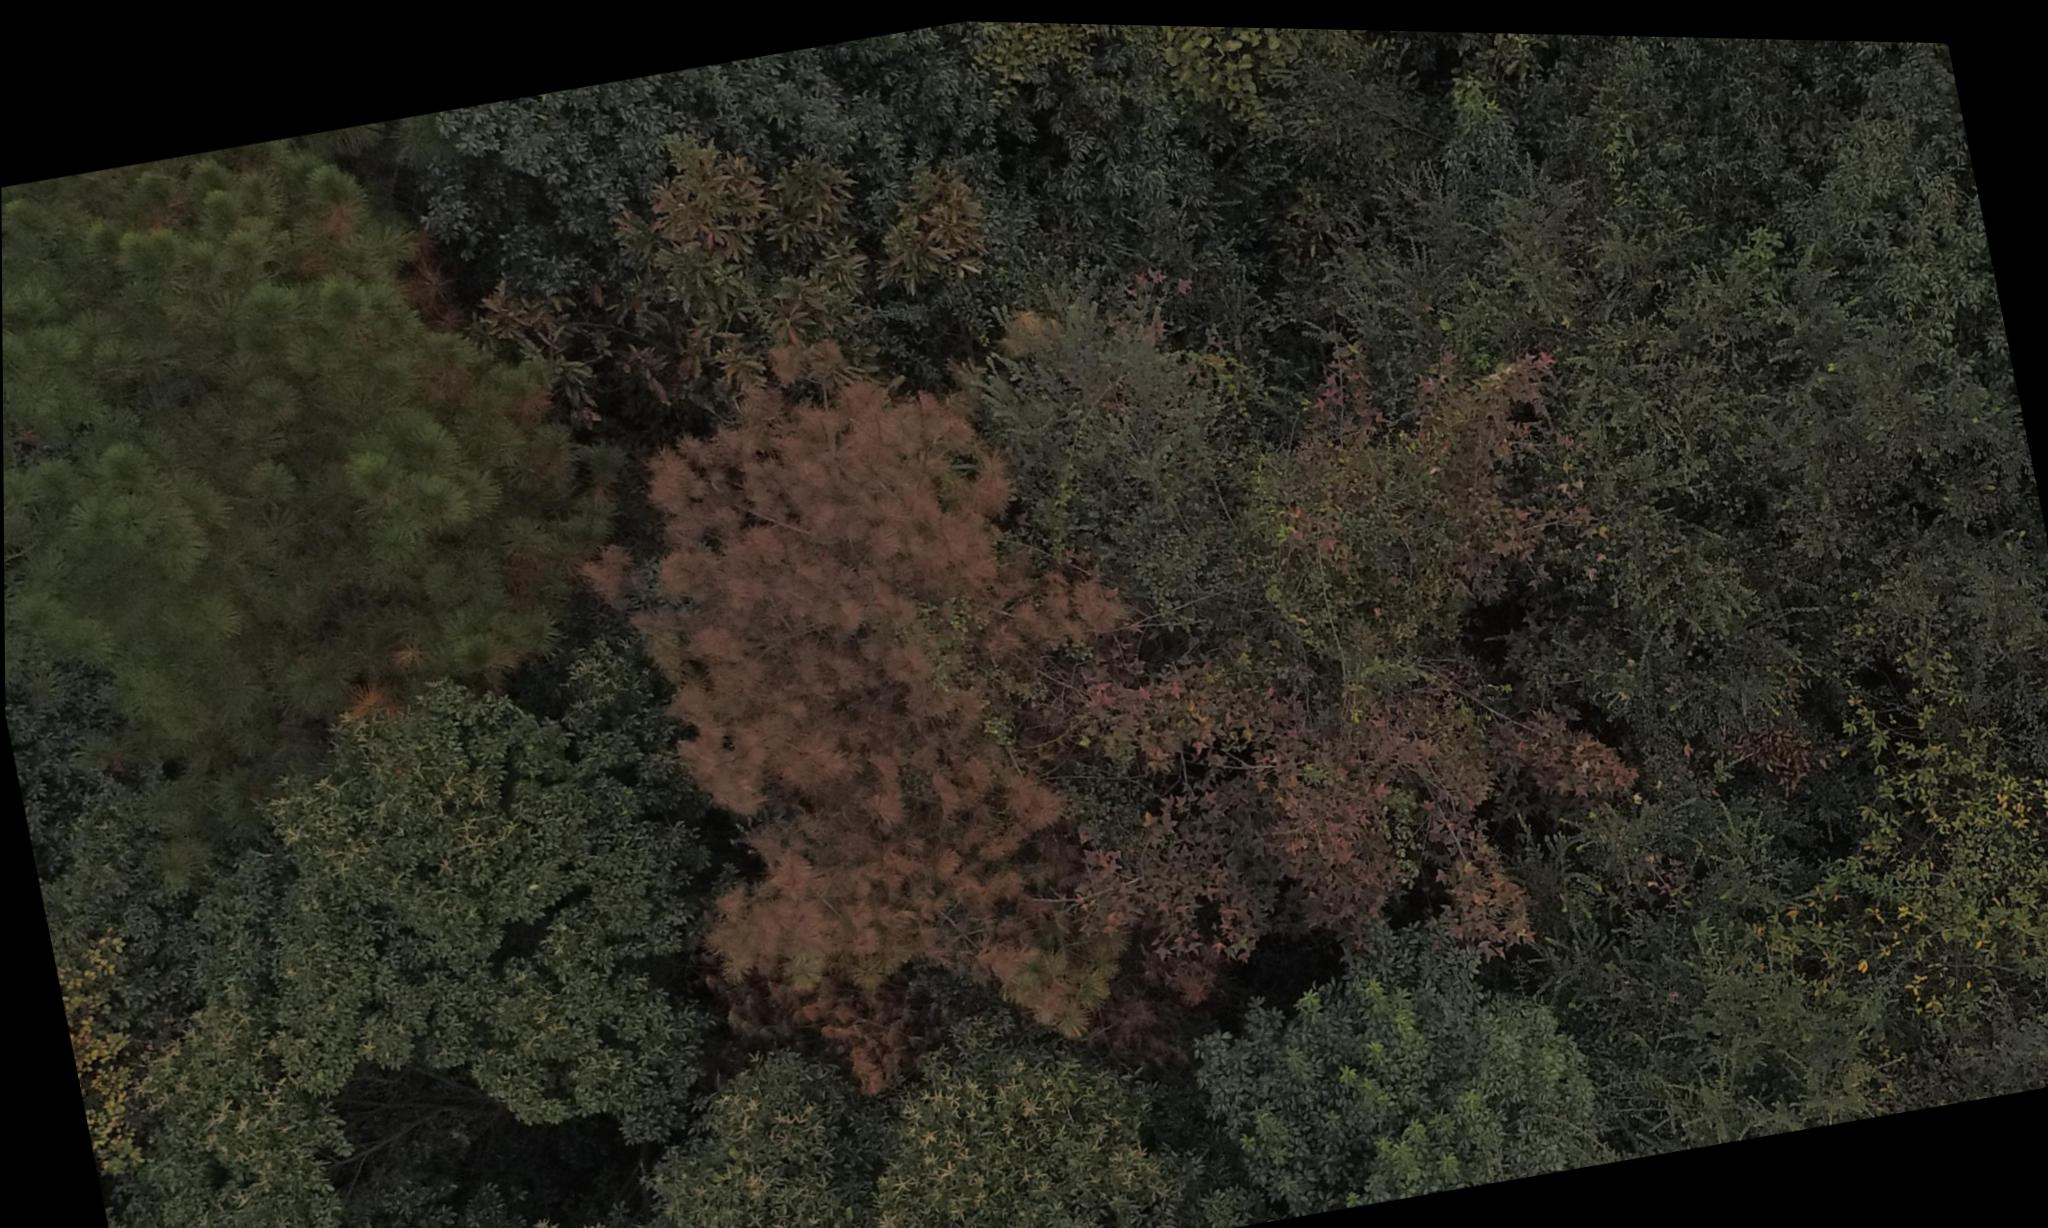heavy: (576, 281, 1174, 1124)
